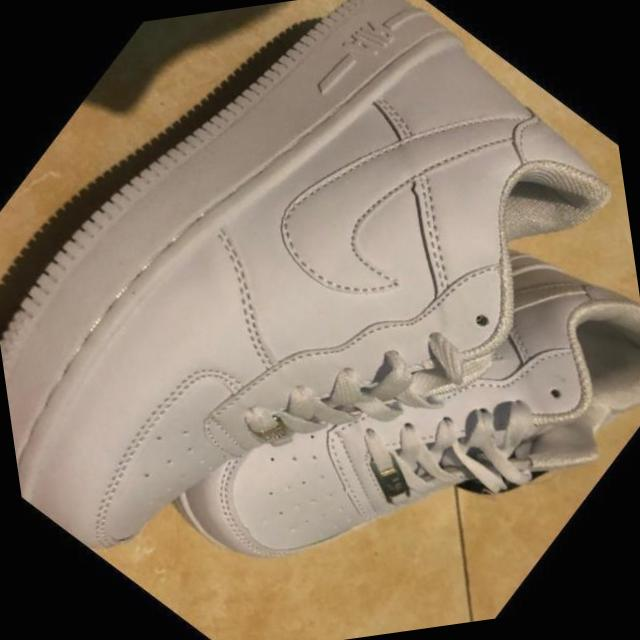nike_fake_airforce: (0, 0, 640, 640), (107, 103, 640, 640)
